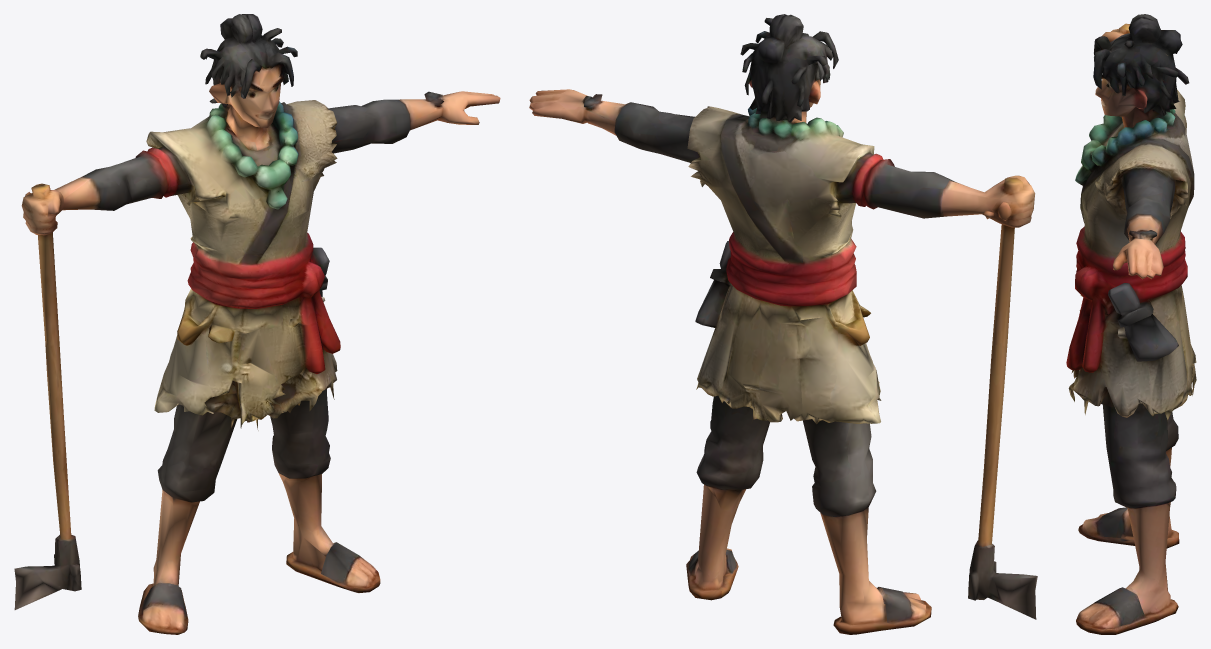
Rendered from anc_villager.glb.
3 views of the same model, side by side, from view 1: azimuth 30°, elevation 25°; view 2: azimuth 150°, elevation 25°; view 3: azimuth 270°, elevation 25° (orthographic). The views are drawn at different scales.
Parts seen in each view (by area): view 1: tripo_node_1c041b5b-d209-43b5-9b1c-0cdf2e54cde6; view 2: tripo_node_1c041b5b-d209-43b5-9b1c-0cdf2e54cde6; view 3: tripo_node_1c041b5b-d209-43b5-9b1c-0cdf2e54cde6.
Part boxes in pixels (<box>): tripo_node_1c041b5b-d209-43b5-9b1c-0cdf2e54cde6: <box>14,14,500,634</box>; tripo_node_1c041b5b-d209-43b5-9b1c-0cdf2e54cde6: <box>529,14,1037,634</box>; tripo_node_1c041b5b-d209-43b5-9b1c-0cdf2e54cde6: <box>1066,14,1196,634</box>.
Size of the model in its own units: 0.8859 by 0.9994 by 0.208.
1 material, 1 textured.
